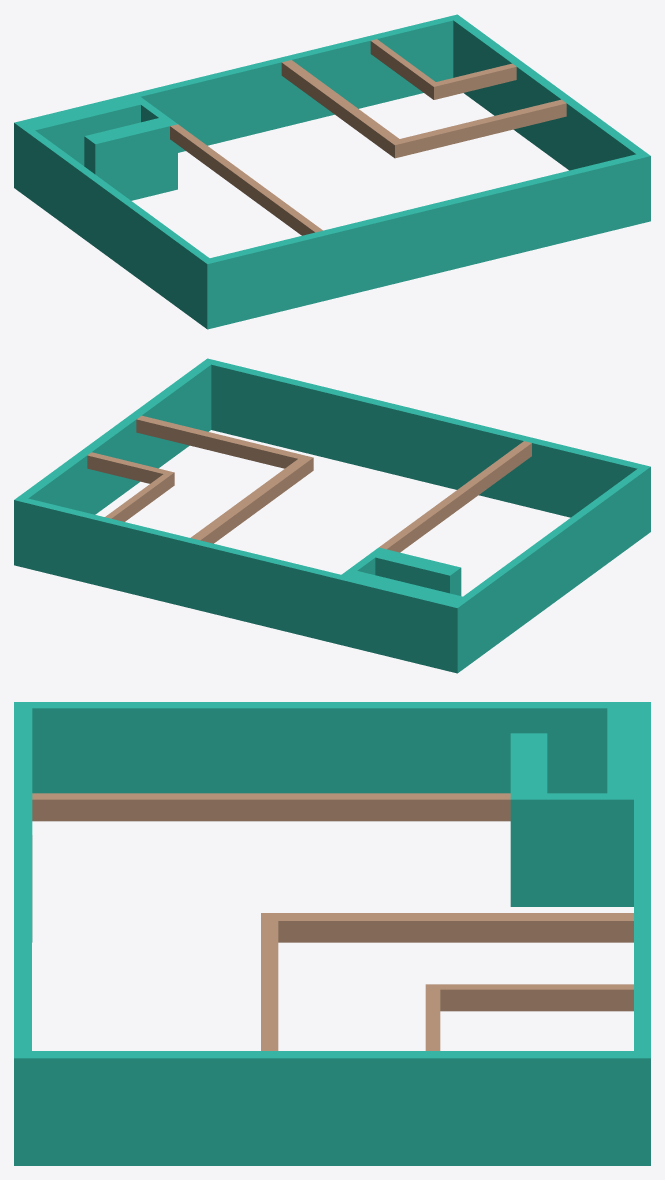
File: Underground_001.FBX
3 renders of one model, top to bottom at view 1: azimuth 30°, elevation 25°; view 2: azimuth 150°, elevation 25°; view 3: azimuth 270°, elevation 25°, orthographic. The views are drawn at different scales.
Visible parts, largest first — view 1: Underground; view 2: Underground; view 3: Underground.
Boxes of the visible parts, x1=… form: Underground: x1=14, y1=14, x2=650, y2=329; Underground: x1=14, y1=358, x2=650, y2=673; Underground: x1=14, y1=702, x2=650, y2=1165.
Bounding box in the file's own units: 1697 × 239 × 1282.
